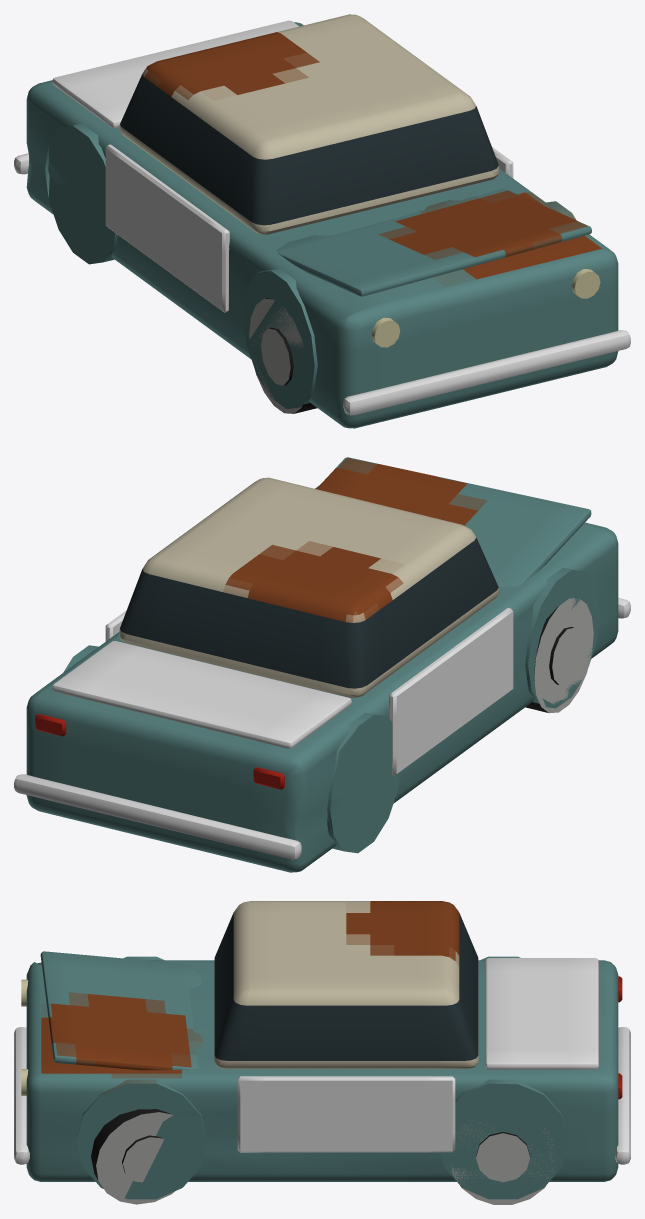
File: L17D_Wreck_A.fbx
3 views of the same model, one above another, from view 1: azimuth 30°, elevation 25°; view 2: azimuth 150°, elevation 25°; view 3: azimuth 270°, elevation 25° (orthographic). The views are drawn at different scales.
Visible parts, largest first — view 1: Body, Cabin, Hood, DoorL, Bumpers, Trunk, WheelFL, Lamps; view 2: Body, Cabin, Trunk, Hood, DoorL, Bumpers, WheelFL, Lamps; view 3: Body, Cabin, DoorR, Hood, Trunk, WheelFR, Bumpers, WheelRR, Lamps.
Part boxes in pixels (box(x1,y1,x2,y2)): Body: box(26, 22, 618, 428); Cabin: box(119, 14, 499, 234); Hood: box(276, 188, 591, 296); DoorL: box(105, 144, 229, 312); Bumpers: box(14, 153, 630, 415); Trunk: box(52, 20, 298, 128); WheelFL: box(249, 298, 317, 413); Lamps: box(371, 269, 600, 347); Body: box(26, 485, 618, 872); Cabin: box(119, 477, 499, 697); Trunk: box(52, 641, 351, 748); Hood: box(316, 457, 591, 586); DoorL: box(389, 608, 513, 775); Bumpers: box(14, 598, 630, 859); WheelFL: box(525, 598, 593, 713); Lamps: box(35, 714, 284, 789); Body: box(26, 956, 618, 1199); Cabin: box(214, 901, 478, 1068); DoorR: box(237, 1076, 455, 1152); Hood: box(40, 951, 203, 1070); Trunk: box(485, 958, 598, 1069); WheelFR: box(91, 1109, 174, 1204); Bumpers: box(14, 1027, 630, 1164); WheelRR: box(451, 1115, 556, 1204); Lamps: box(21, 976, 622, 1099).
Bounding box in the file's own units: 2.01 × 1.37 × 3.86.
